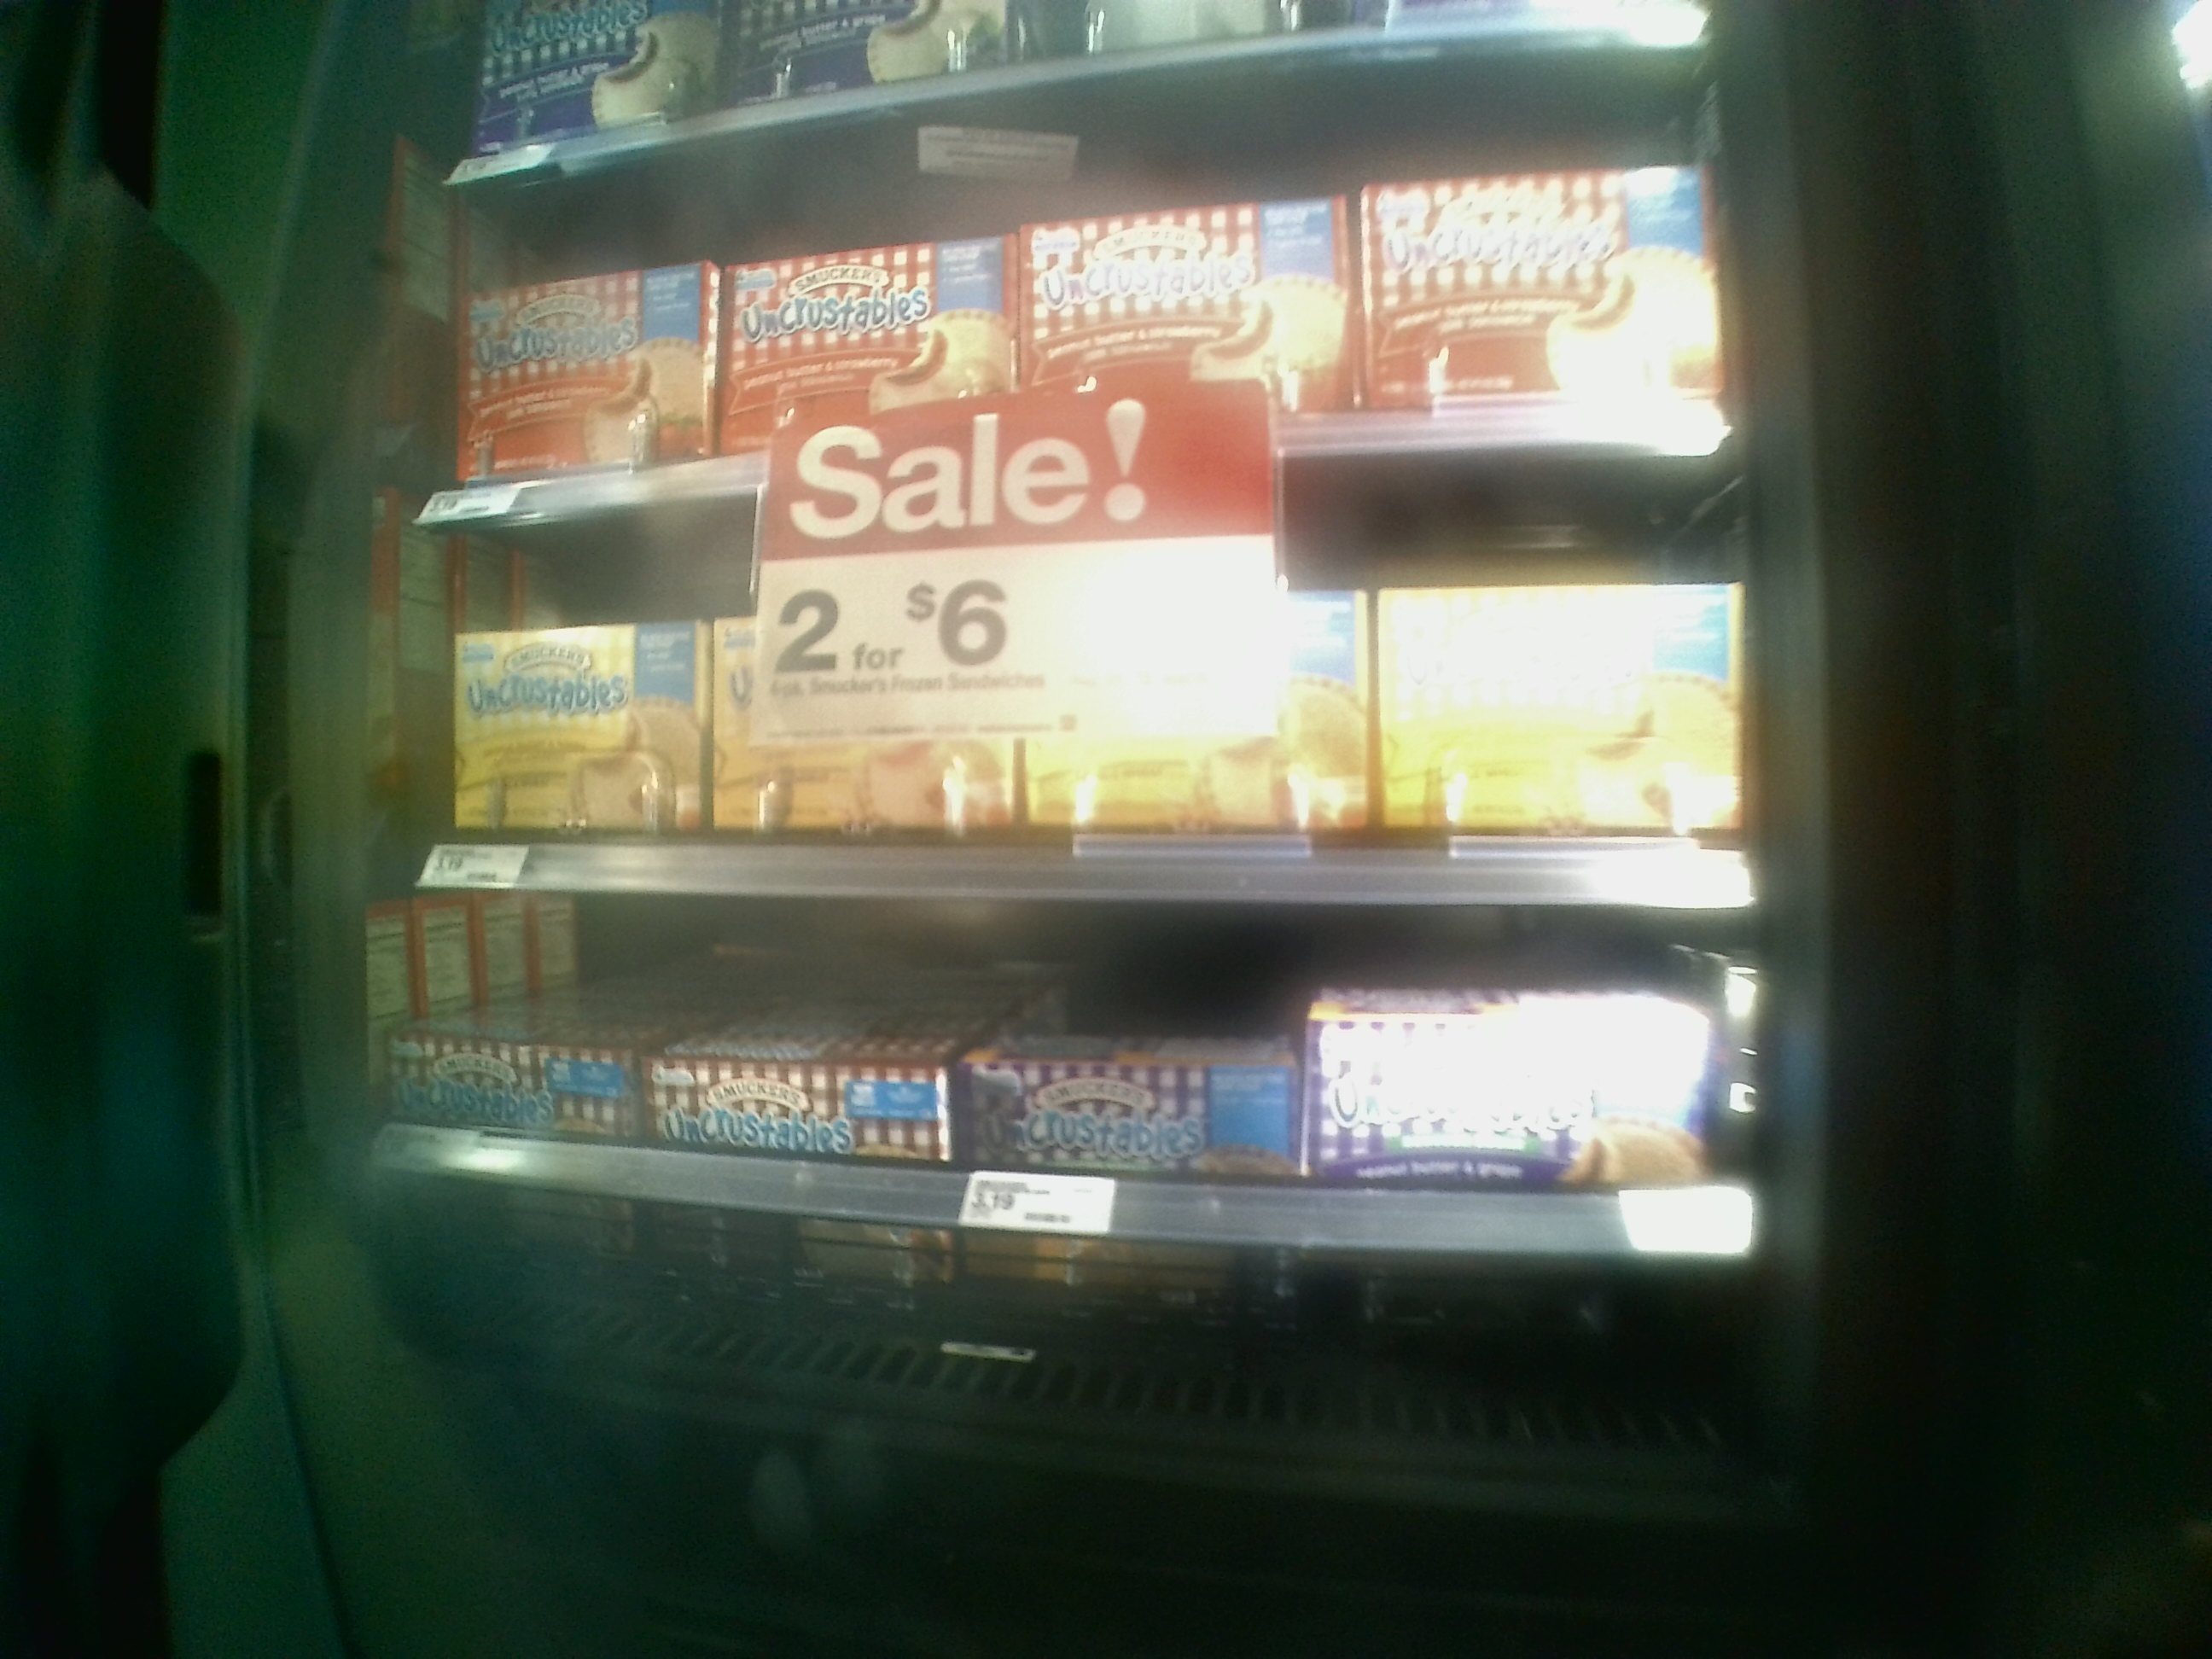shelf: (394, 908, 1759, 1406), (392, 476, 1749, 918), (420, 166, 1730, 471)
